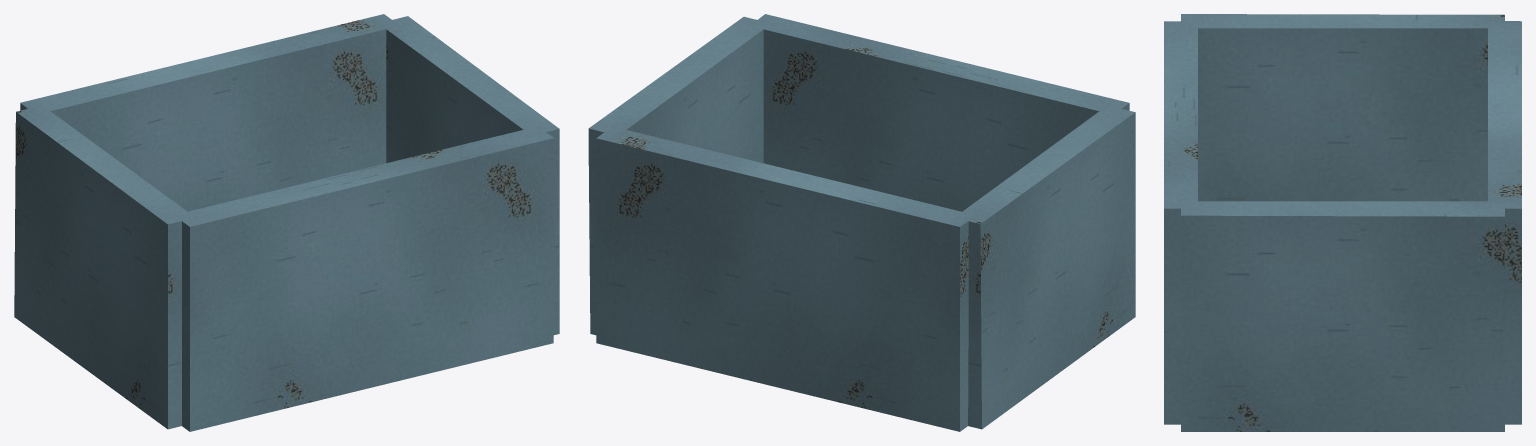
The model's file is crate1_v1.glb.
3 views of the same model, side by side, from view 1: azimuth 30°, elevation 25°; view 2: azimuth 150°, elevation 25°; view 3: azimuth 270°, elevation 25° (orthographic). The views are drawn at different scales.
Parts seen in each view (by area): view 1: Variant_crate1_1; view 2: Variant_crate1_1; view 3: Variant_crate1_1.
Boxes of the visible parts, box(x1,y1,x2,y2) form: Variant_crate1_1: box(14, 14, 559, 431); Variant_crate1_1: box(588, 14, 1135, 431); Variant_crate1_1: box(1164, 14, 1521, 431).
Size of the model in its own units: 0.5627 by 0.28 by 0.42.
Materials: 1 (1 with a texture image).
